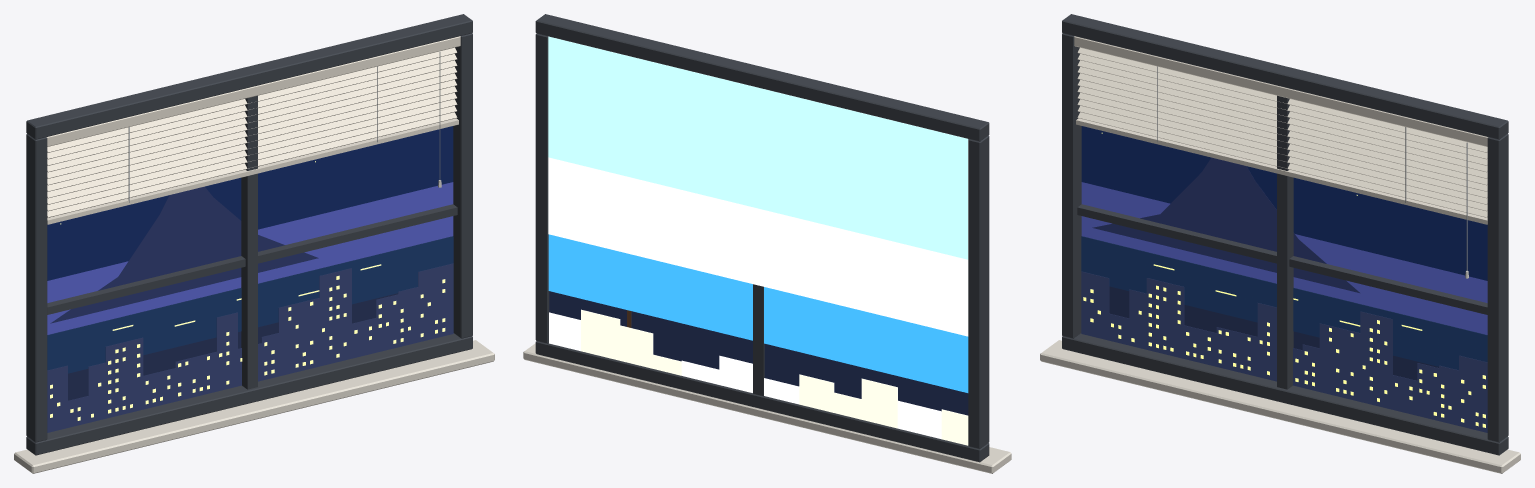
Rendered from window.glb.
3 renders of one model, left to right at view 1: azimuth 30°, elevation 25°; view 2: azimuth 150°, elevation 25°; view 3: azimuth 330°, elevation 25°, orthographic.
Parts seen in each view (by area): view 1: ViewNight, WindowFrame, Blinds; view 2: ViewDay, WindowFrame, ViewNight; view 3: ViewNight, WindowFrame, Blinds.
Boxes of the visible parts, <box> form: ViewNight: <box>47,126,453,432</box>; WindowFrame: <box>14,14,494,473</box>; Blinds: <box>46,36,460,224</box>; ViewDay: <box>548,36,968,445</box>; WindowFrame: <box>523,14,1011,473</box>; ViewNight: <box>549,139,968,415</box>; ViewNight: <box>1081,126,1487,432</box>; WindowFrame: <box>1040,14,1520,473</box>; Blinds: <box>1074,36,1488,278</box>.
Bounding box in the file's own units: 2.24 × 1.56 × 0.16.
